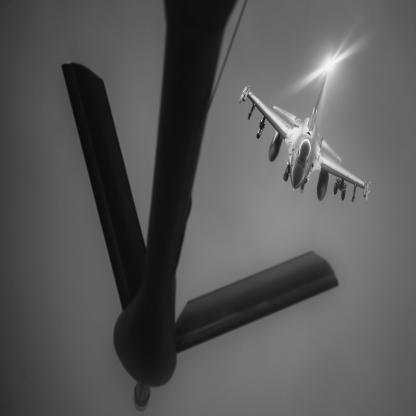F16: (240, 66, 372, 205)
